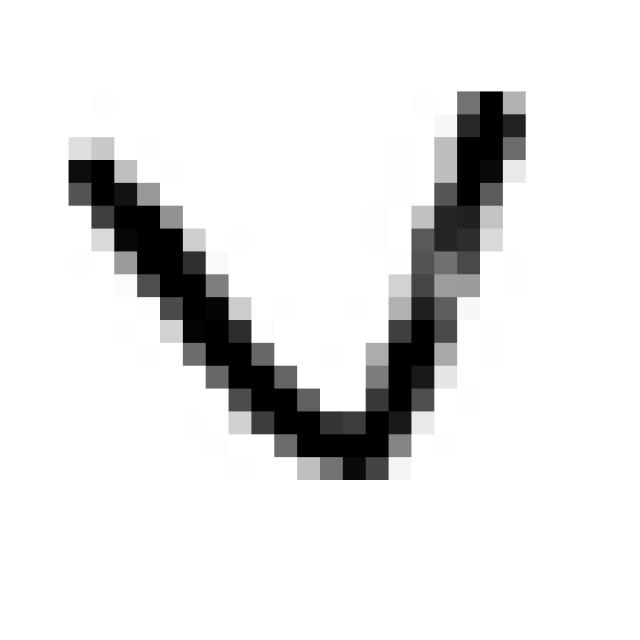7 -seven-: (51, 71, 544, 498)
